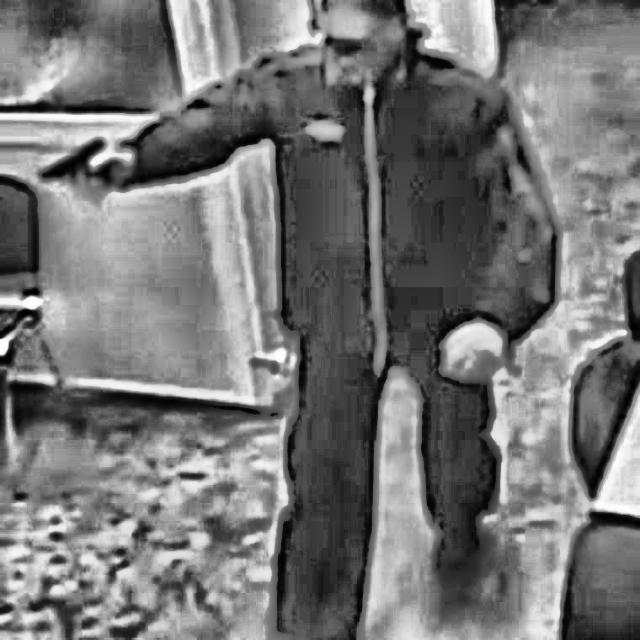robbery: (24, 1, 570, 640)
